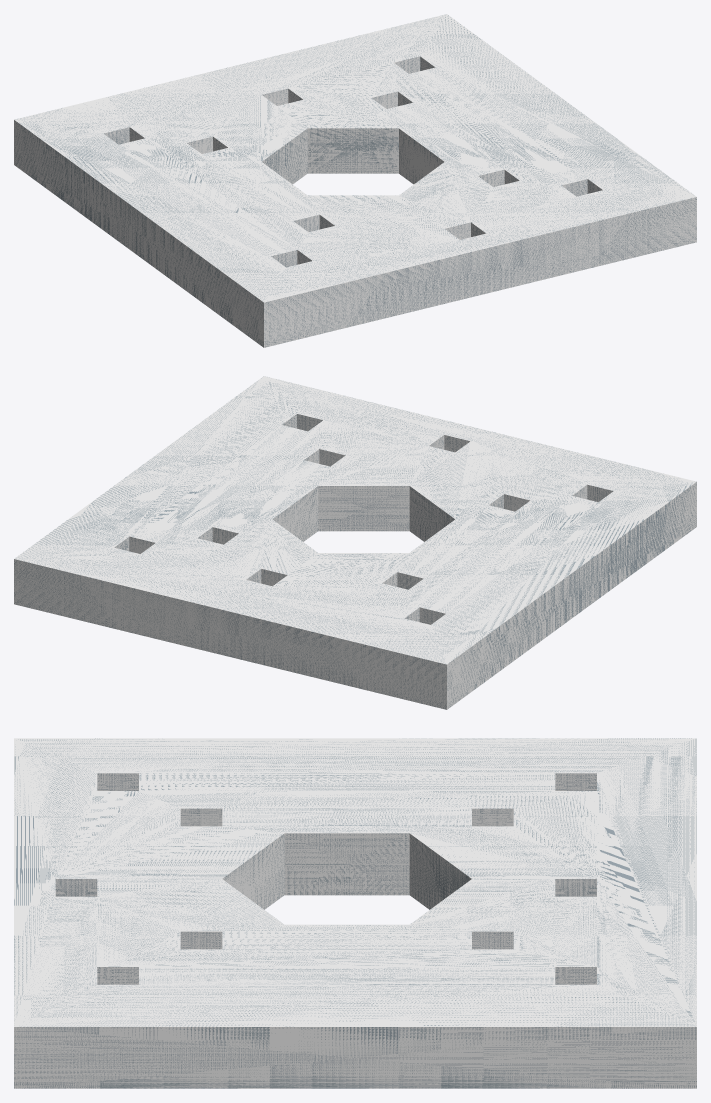
The picture shows the model from 3 angles, top to bottom: view 1: azimuth 30°, elevation 25°; view 2: azimuth 150°, elevation 25°; view 3: azimuth 270°, elevation 25°; orthographic projection. The views are drawn at different scales.
Visible parts, largest first — view 1: Model; view 2: Model; view 3: Model.
Boxes of the visible parts, x1,y1,x2,y2 form: Model: (14,14,696,347); Model: (14,376,696,709); Model: (14,738,696,1088).
Bounding box in the file's own units: 5 × 0.5 × 5.
